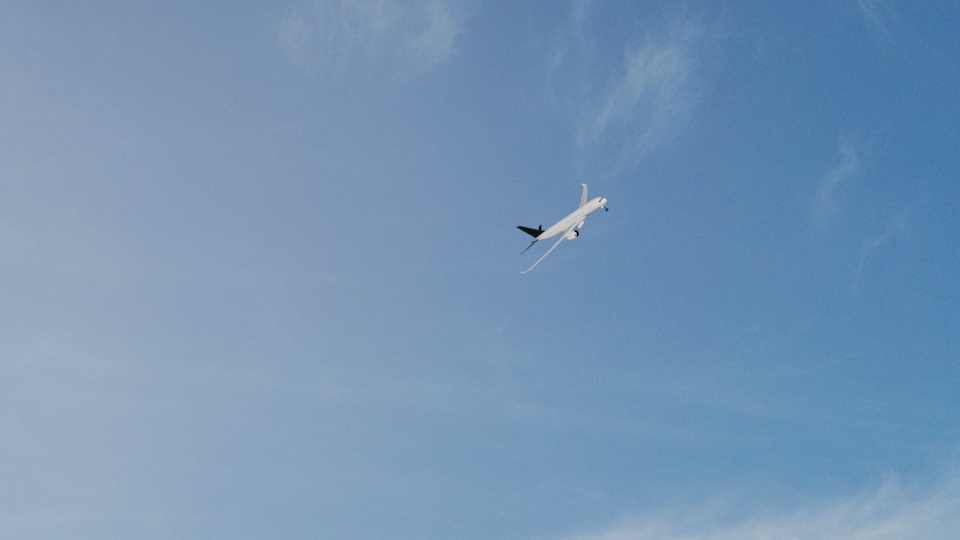plane: (509, 182, 608, 274)
